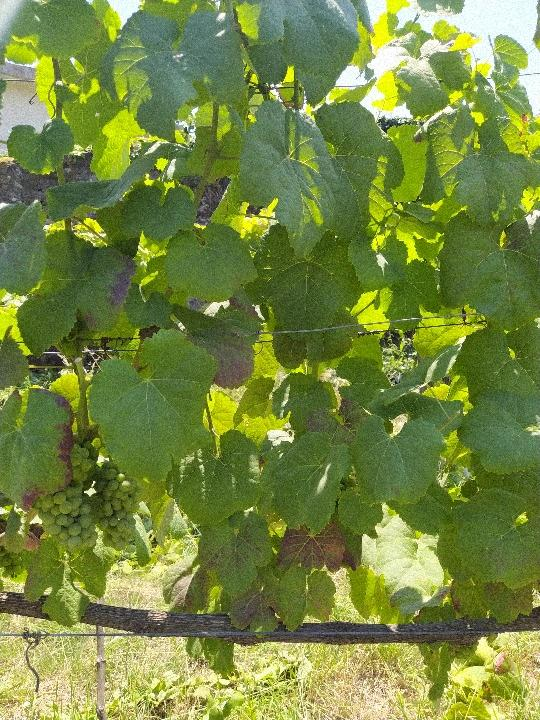grape: (32, 441, 99, 553), (98, 459, 141, 552)
